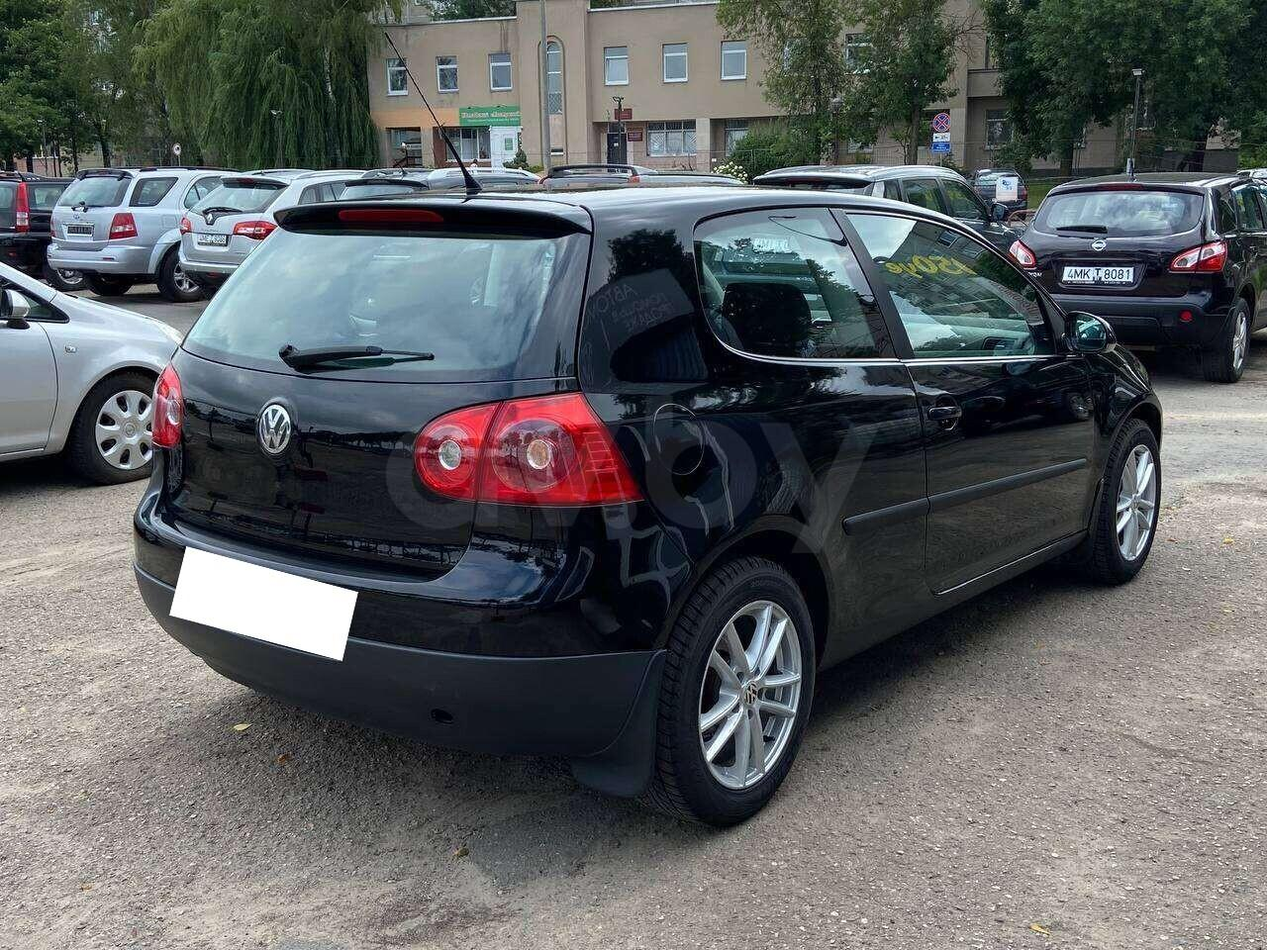Golf_2003-2009: (130, 178, 1164, 834)
